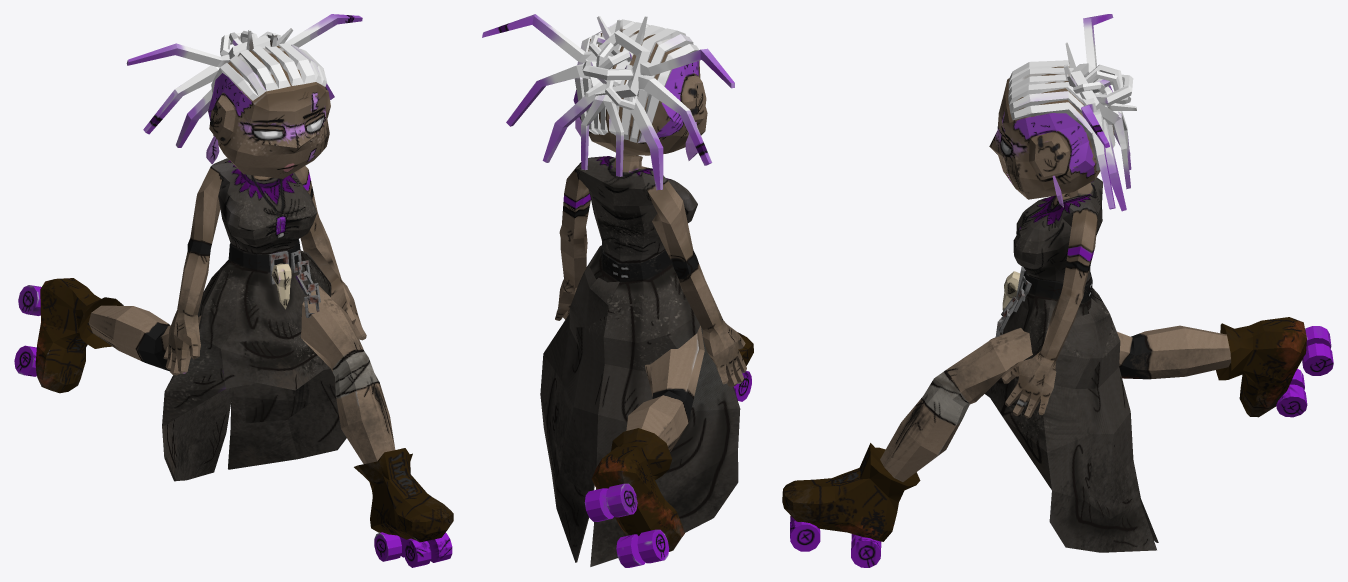
The model's file is bruja_000000.obj.
3 views of the same model, side by side, from view 1: azimuth 30°, elevation 25°; view 2: azimuth 150°, elevation 25°; view 3: azimuth 270°, elevation 25° (orthographic). The views are drawn at different scales.
Parts seen in each view (by area): view 1: Bruja_Plane.001; view 2: Bruja_Plane.001; view 3: Bruja_Plane.001.
Boxes of the visible parts, <box> form: Bruja_Plane.001: <box>14,14,453,567</box>; Bruja_Plane.001: <box>482,14,753,567</box>; Bruja_Plane.001: <box>782,14,1333,567</box>.
Size of the model in its own units: 8.18 by 14.55 by 14.65.
